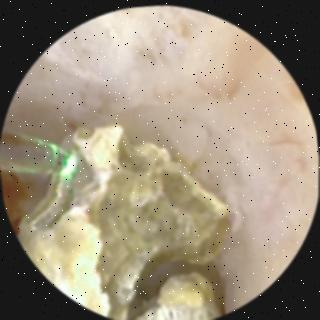laser: (61, 154, 75, 174)
stone: (17, 126, 228, 315), (131, 271, 218, 320)
tissue: (7, 12, 313, 302)
